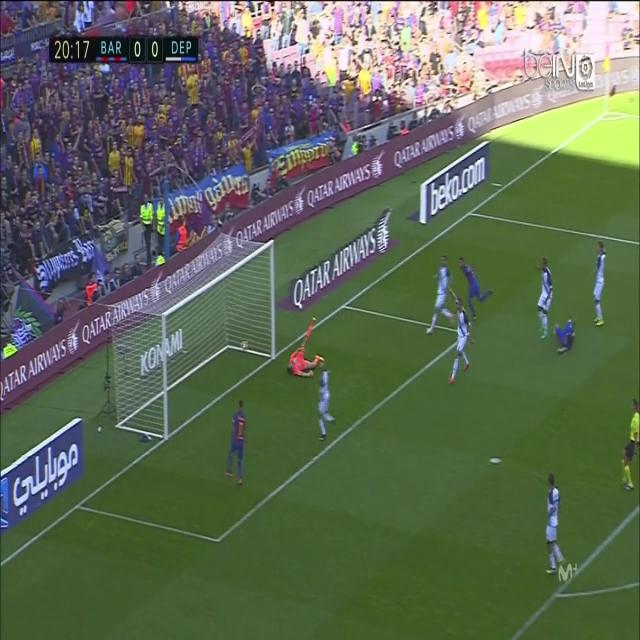Ball: (240, 334, 250, 356)
Goalkeeper: (286, 314, 326, 382)
Player: (424, 251, 457, 338), (457, 251, 495, 323), (544, 467, 568, 580), (448, 294, 475, 388), (224, 394, 248, 488), (532, 255, 556, 342), (592, 238, 612, 334), (316, 359, 336, 447), (552, 314, 580, 359)
Referee: (617, 398, 640, 493)
